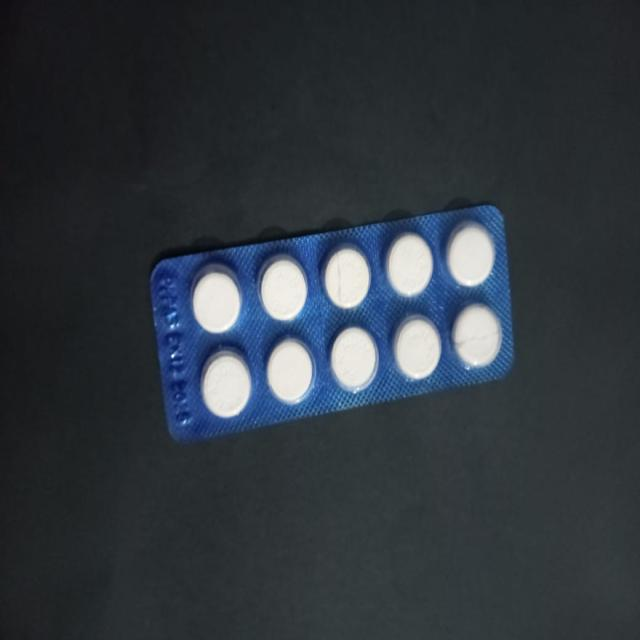defect: (317, 239, 375, 311), (450, 303, 504, 370)
